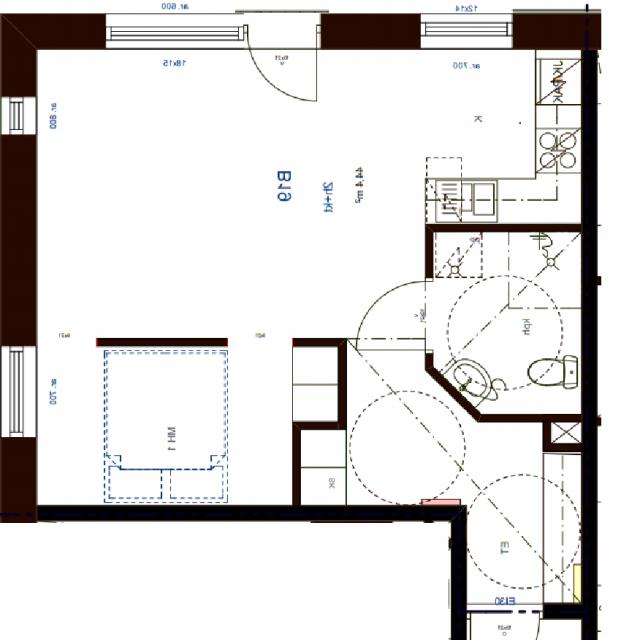door: (250, 10, 321, 119), (357, 281, 436, 350), (471, 602, 540, 640)
